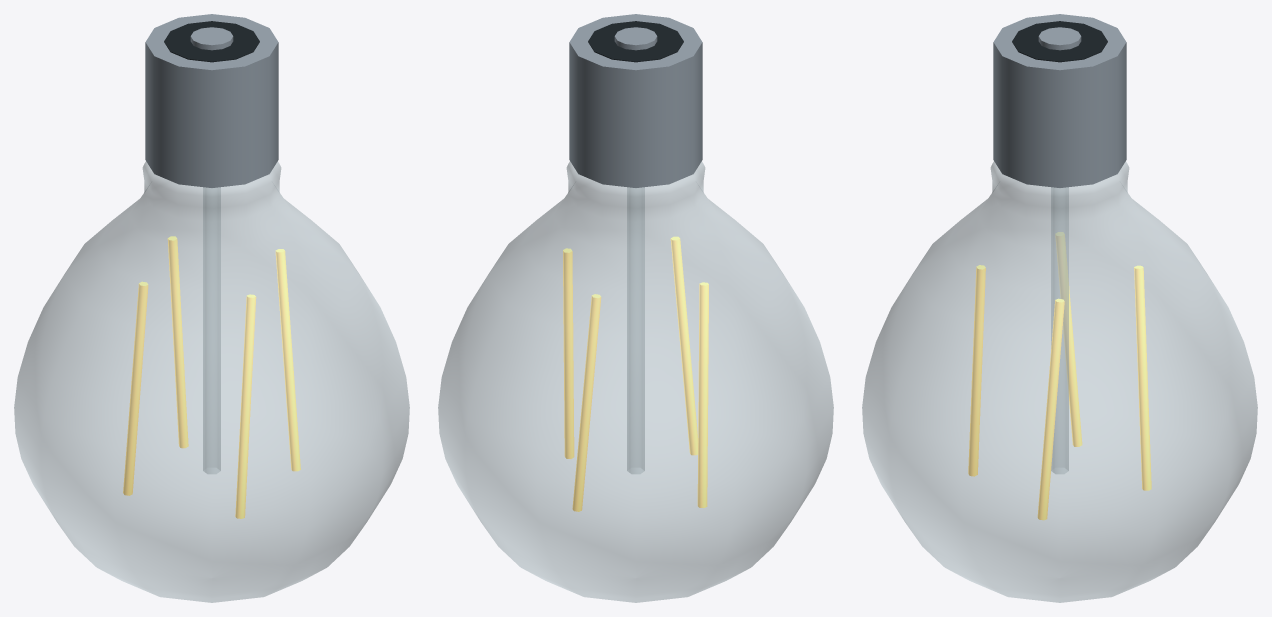
File: source.glb
3 views of the same model, side by side, from view 1: azimuth 30°, elevation 25°; view 2: azimuth 150°, elevation 25°; view 3: azimuth 270°, elevation 25° (orthographic).
Visible parts, largest first — view 1: 光学透明件, 机加工金属, Emitters, 密封及绝缘件; view 2: 光学透明件, 机加工金属, Emitters, 密封及绝缘件; view 3: 光学透明件, 机加工金属, Emitters, 密封及绝缘件.
Boxes of the visible parts, left/top/right/bottom form: 光学透明件: left=14, top=161, right=409, bottom=602; 机加工金属: left=145, top=14, right=278, bottom=187; Emitters: left=123, top=236, right=300, bottom=518; 密封及绝缘件: left=164, top=21, right=259, bottom=62; 光学透明件: left=438, top=161, right=833, bottom=602; 机加工金属: left=569, top=14, right=702, bottom=187; Emitters: left=563, top=236, right=708, bottom=511; 密封及绝缘件: left=588, top=21, right=683, bottom=62; 光学透明件: left=862, top=161, right=1257, bottom=602; 机加工金属: left=993, top=14, right=1126, bottom=187; Emitters: left=968, top=232, right=1151, bottom=520; 密封及绝缘件: left=1012, top=21, right=1107, bottom=62.
Bounding box in the file's own units: 0.0803 × 0.1213 × 0.0803.
